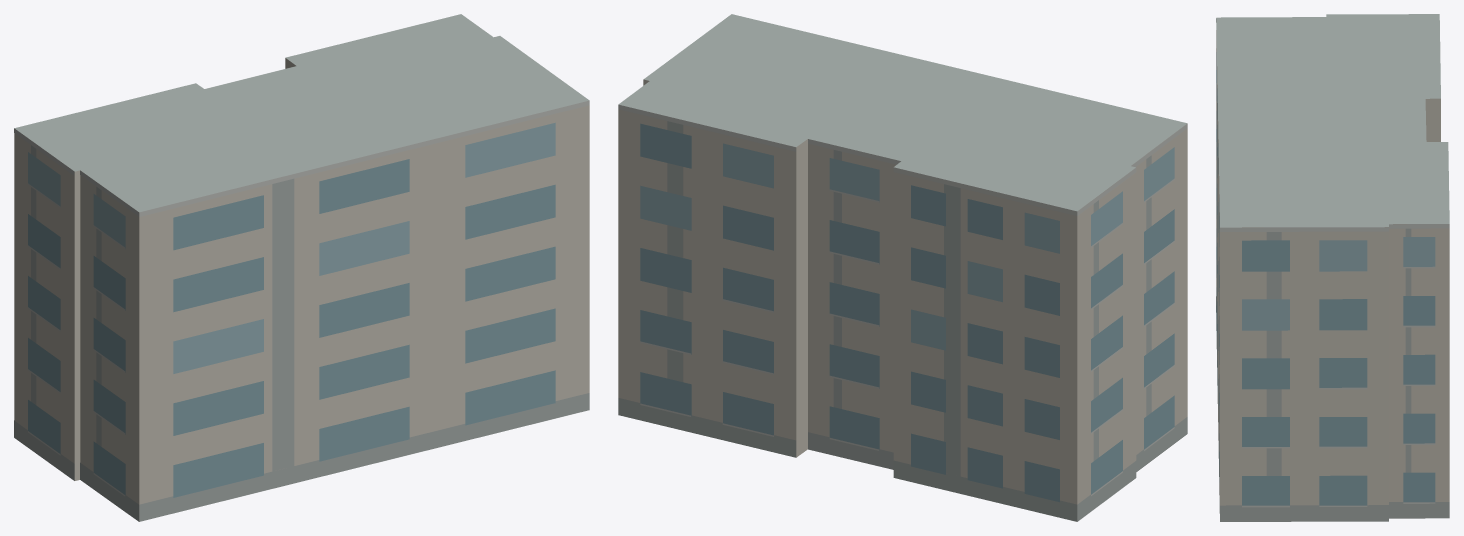
Rendered from survey-upis-32701351.glb.
The picture shows the model from 3 angles, left to right: view 1: azimuth 30°, elevation 25°; view 2: azimuth 150°, elevation 25°; view 3: azimuth 270°, elevation 25°; orthographic projection. The views are drawn at different scales.
Parts seen in each view (by area): view 1: survey-upis-32701351.tmp; view 2: survey-upis-32701351.tmp; view 3: survey-upis-32701351.tmp.
Part boxes in pixels (x1,y1,x2,y2): survey-upis-32701351.tmp: (14, 14, 589, 521); survey-upis-32701351.tmp: (618, 14, 1187, 521); survey-upis-32701351.tmp: (1216, 14, 1449, 521).
Bounding box in the file's own units: 24.9 × 16 × 11.51.
